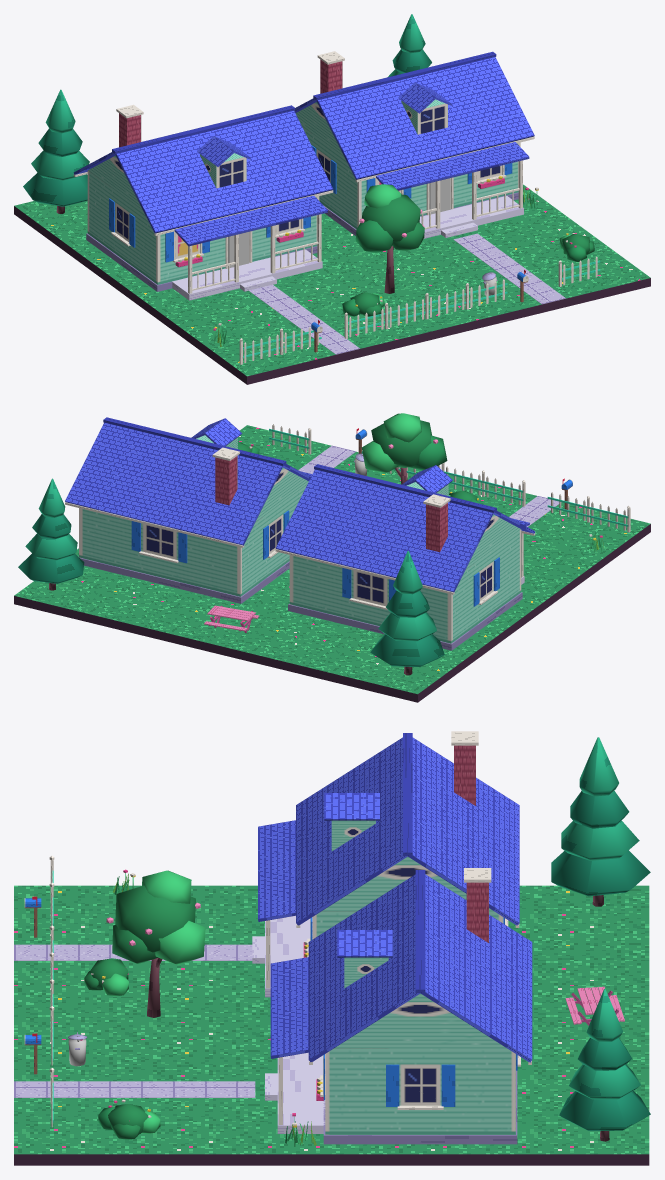
The model's file is Block Houses.fbx.
3 views of the same model, one above another, from view 1: azimuth 30°, elevation 25°; view 2: azimuth 150°, elevation 25°; view 3: azimuth 270°, elevation 25° (orthographic). The views are drawn at different scales.
Parts seen in each view (by area): view 1: Block Houses mesh; view 2: Block Houses mesh; view 3: Block Houses mesh.
Part boxes in pixels (x1,y1,x2,y2): Block Houses mesh: [14, 14, 650, 384]; Block Houses mesh: [14, 413, 650, 702]; Block Houses mesh: [14, 731, 650, 1165].
Size of the model in its own units: 20.46 by 6.69 by 20.06.
